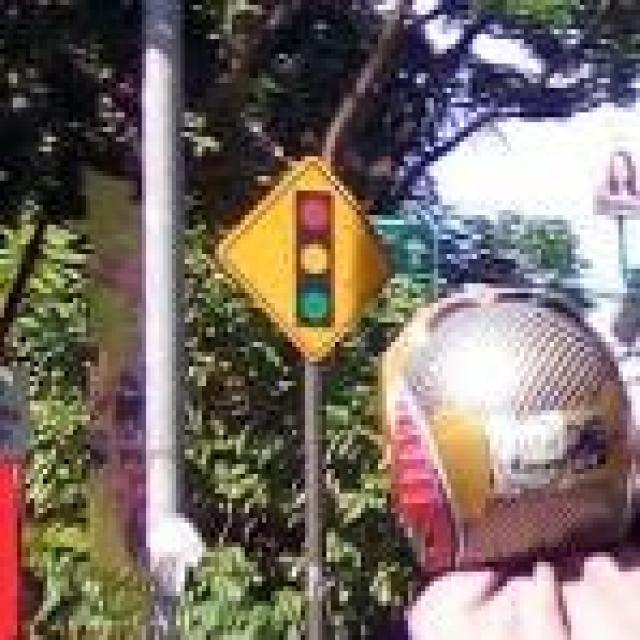traffic_light: (232, 156, 395, 357)
